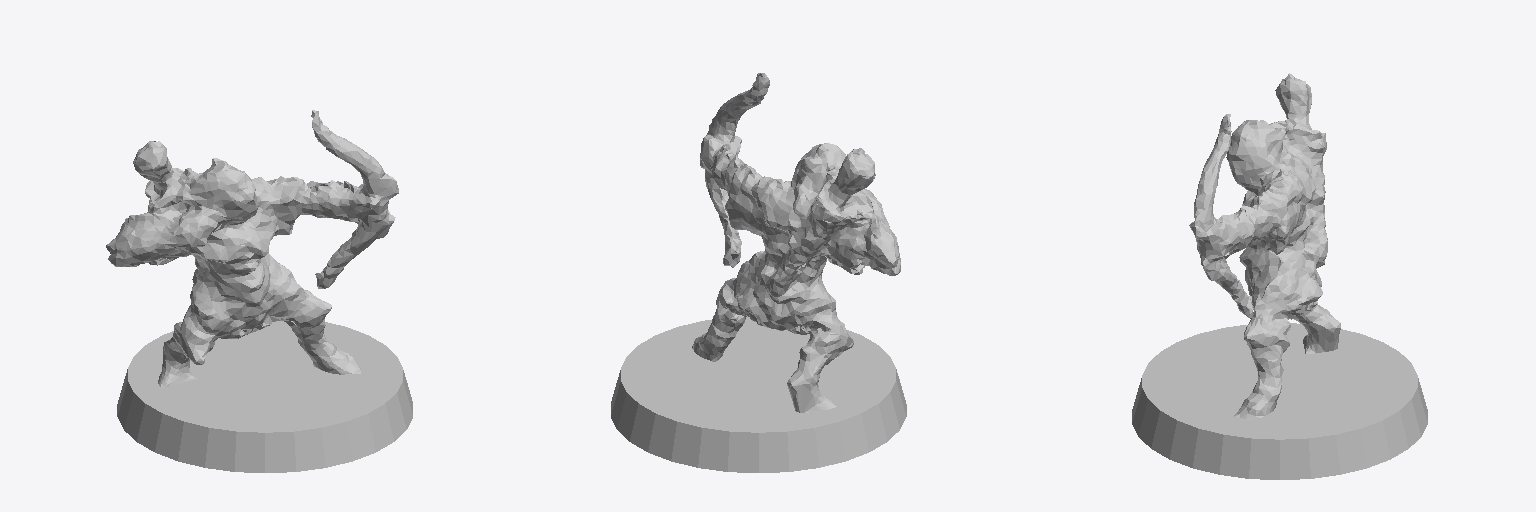
File: RangeEnemy.obj
3 renders of one model, left to right at view 1: azimuth 30°, elevation 25°; view 2: azimuth 150°, elevation 25°; view 3: azimuth 270°, elevation 25°, orthographic.
Parts seen in each view (by area): view 1: default, Object001; view 2: Object001, default; view 3: Object001, default.
Boxes of the visible parts, x1,y1,x2,y2 form: default: [106, 110, 398, 386]; Object001: [117, 321, 412, 472]; Object001: [611, 316, 906, 472]; default: [692, 73, 900, 412]; Object001: [1132, 323, 1427, 479]; default: [1189, 73, 1340, 419].
Size of the model in its own units: 1.06 by 1.14 by 0.9782.